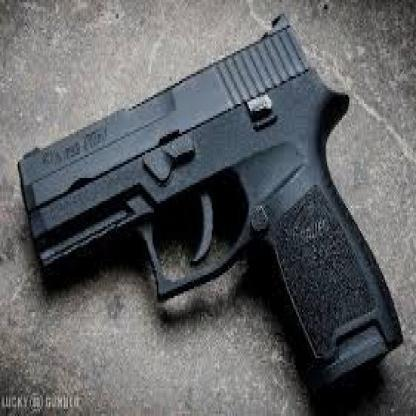Pistol: (11, 3, 381, 412)
